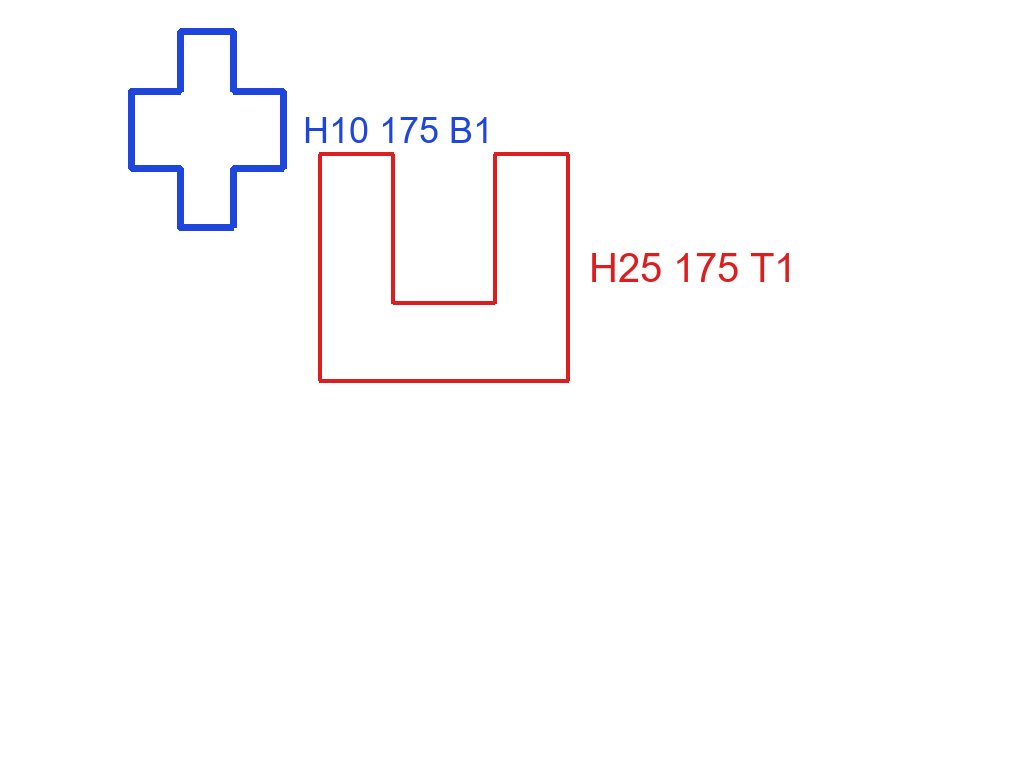shape: (316, 150, 573, 385), (126, 26, 289, 233)
text: (587, 251, 798, 284), (301, 115, 495, 145)
